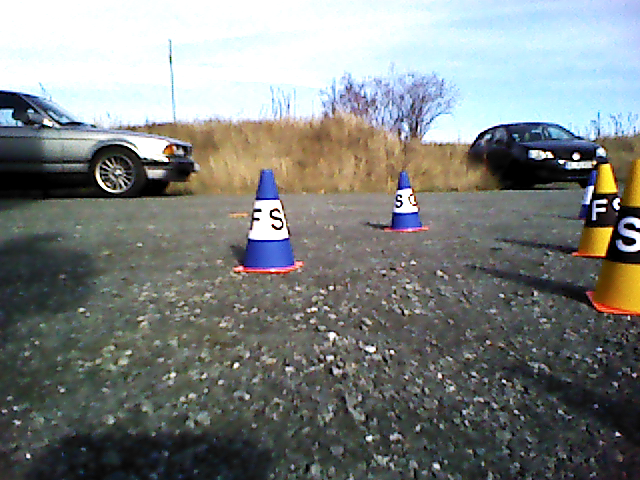bluecone: (245, 170, 294, 267), (393, 172, 421, 228), (579, 171, 593, 216)
yellowcone: (601, 161, 640, 308), (582, 164, 617, 252)
